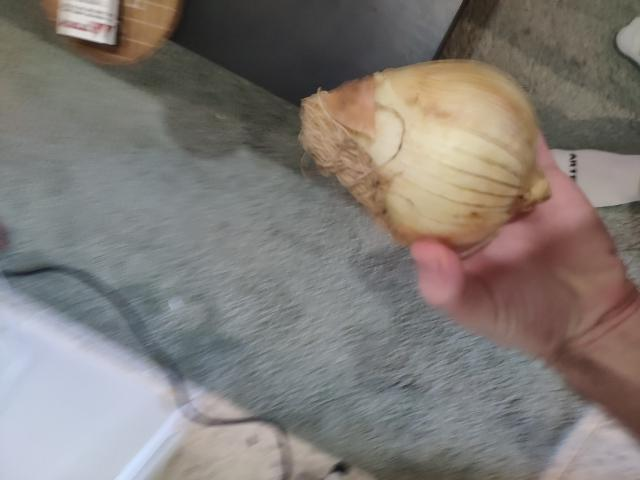onion: (292, 71, 532, 253)
